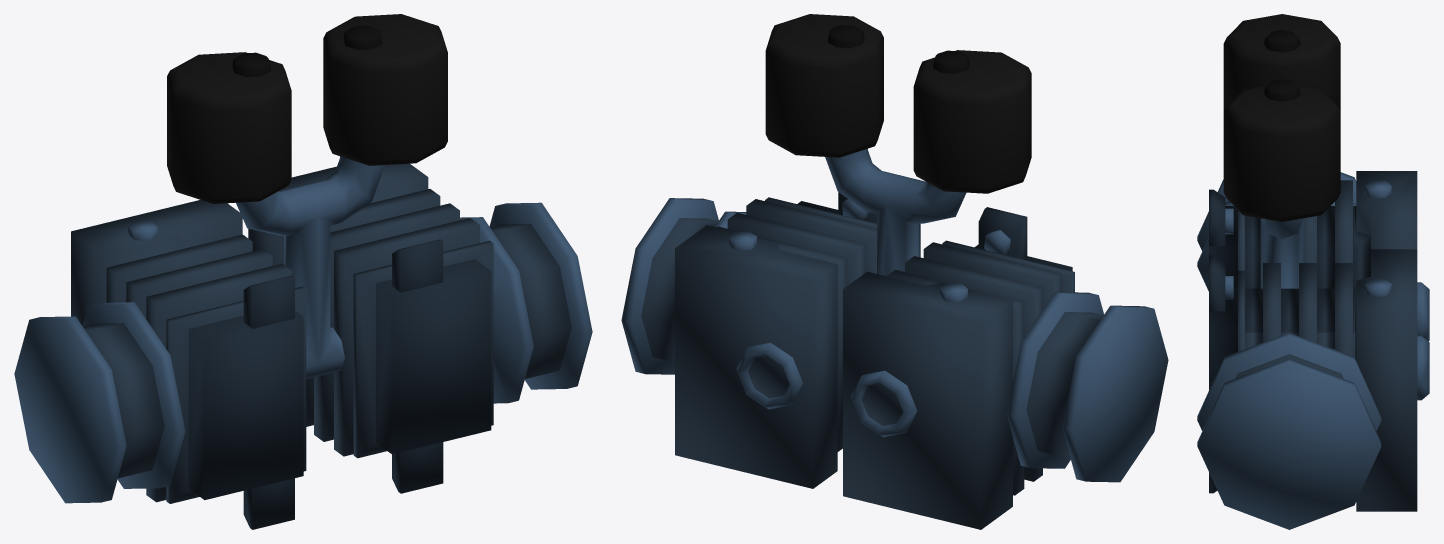
The model's file is Engine2.fbx.
The picture shows the model from 3 angles, left to right: view 1: azimuth 30°, elevation 25°; view 2: azimuth 150°, elevation 25°; view 3: azimuth 270°, elevation 25°; orthographic projection. The views are drawn at different scales.
Visible parts, largest first — view 1: Engine2; view 2: Engine2; view 3: Engine2.
Part boxes in pixels (left/top/right/bottom): Engine2: left=14, top=14, right=592, bottom=529; Engine2: left=621, top=14, right=1168, bottom=529; Engine2: left=1197, top=14, right=1429, bottom=529.
Size of the model in its own units: 0.7873 by 0.6806 by 0.367.
